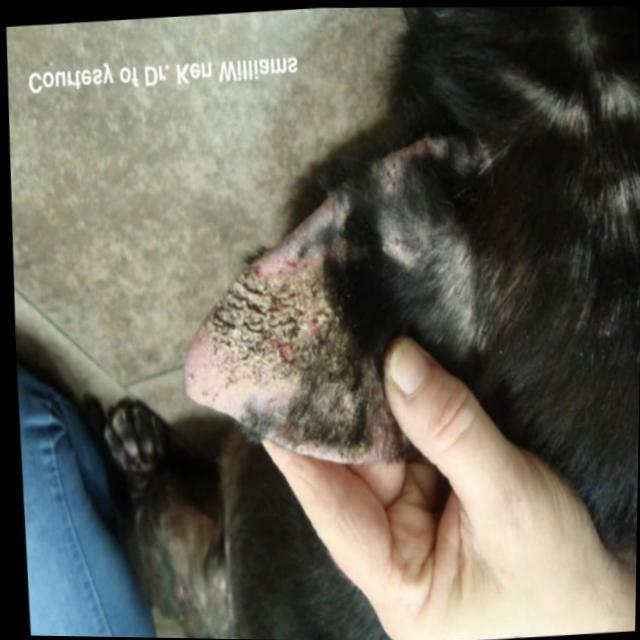mange: (172, 185, 402, 477)
